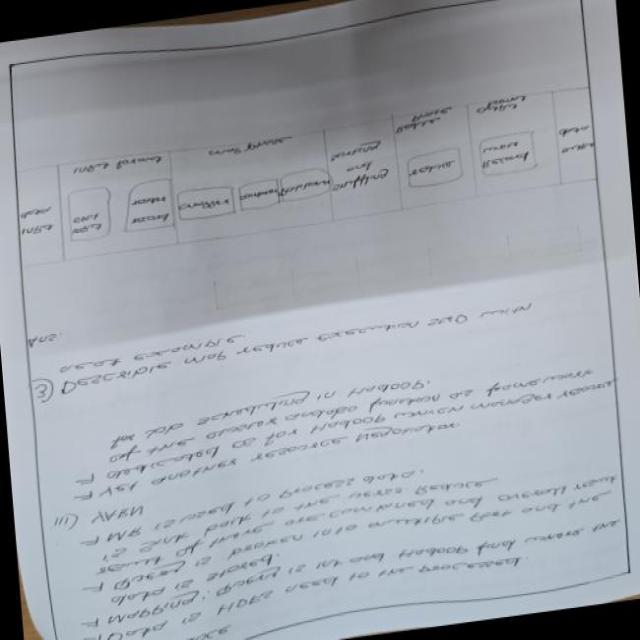Figure Detection - v3 Dataset Version2: (3, 64, 599, 287)
